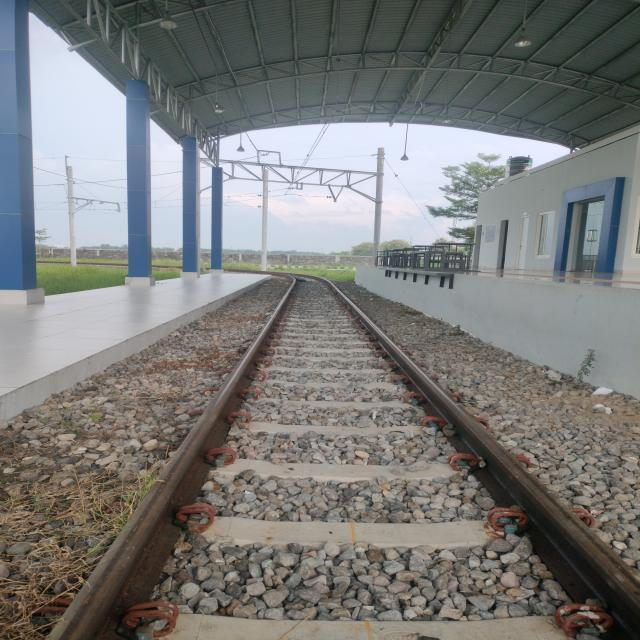rail-detection: (309, 276, 640, 640), (53, 273, 296, 640)
